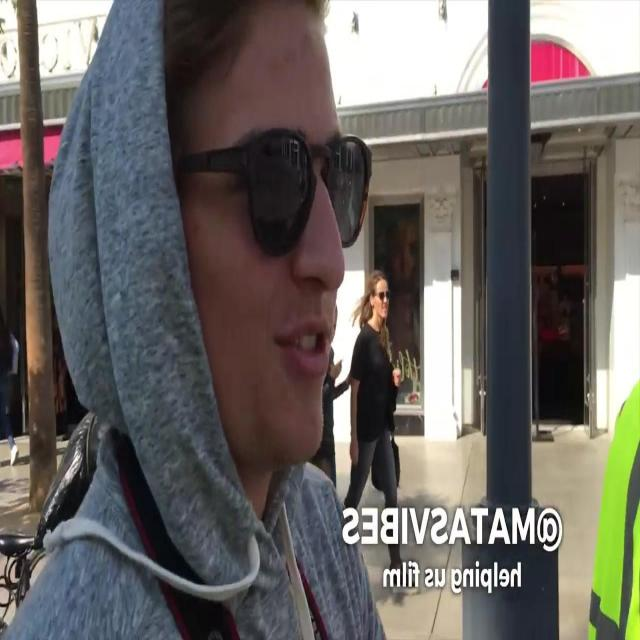Reflective-Jacket: (585, 352, 640, 640)
